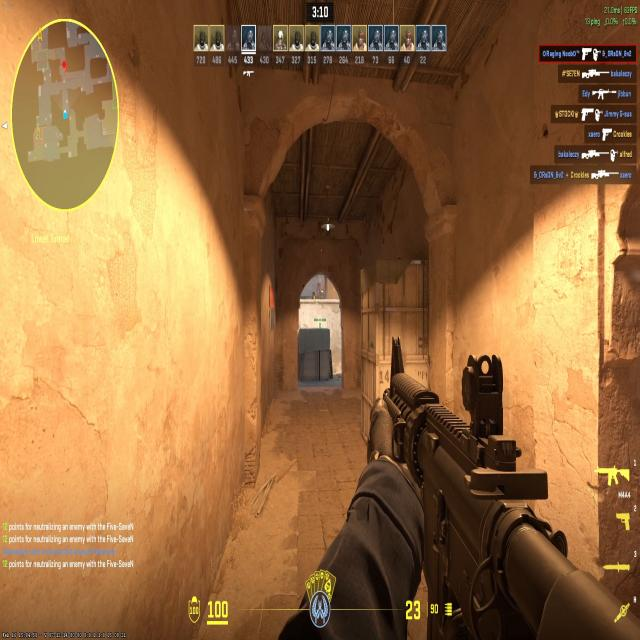player: (317, 284, 325, 304), (311, 287, 317, 301)
